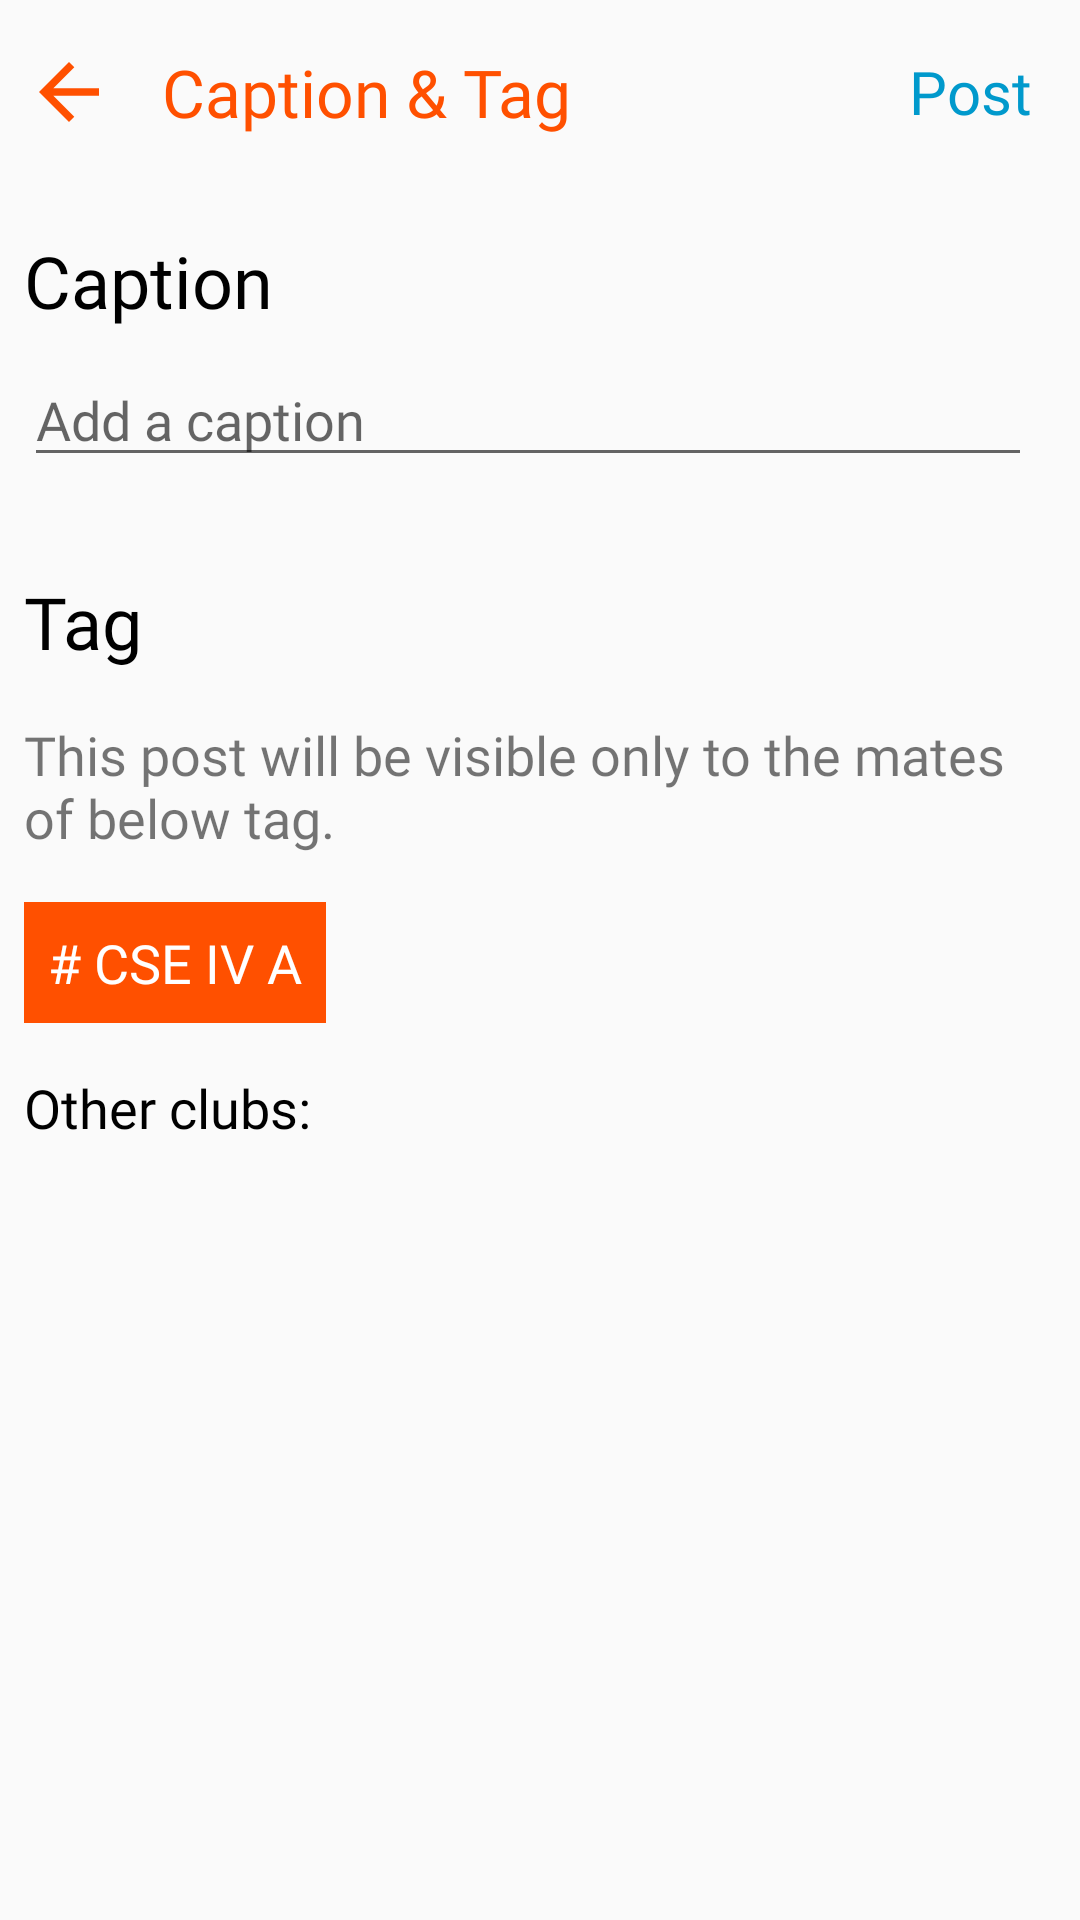

Screen size 1080px×1920px. Icon name, then its box in pixels as (x1=x1, y1=y1, x2=x2, y2=y2):
arrow back: (x1=39, y1=62, x2=99, y2=122)
